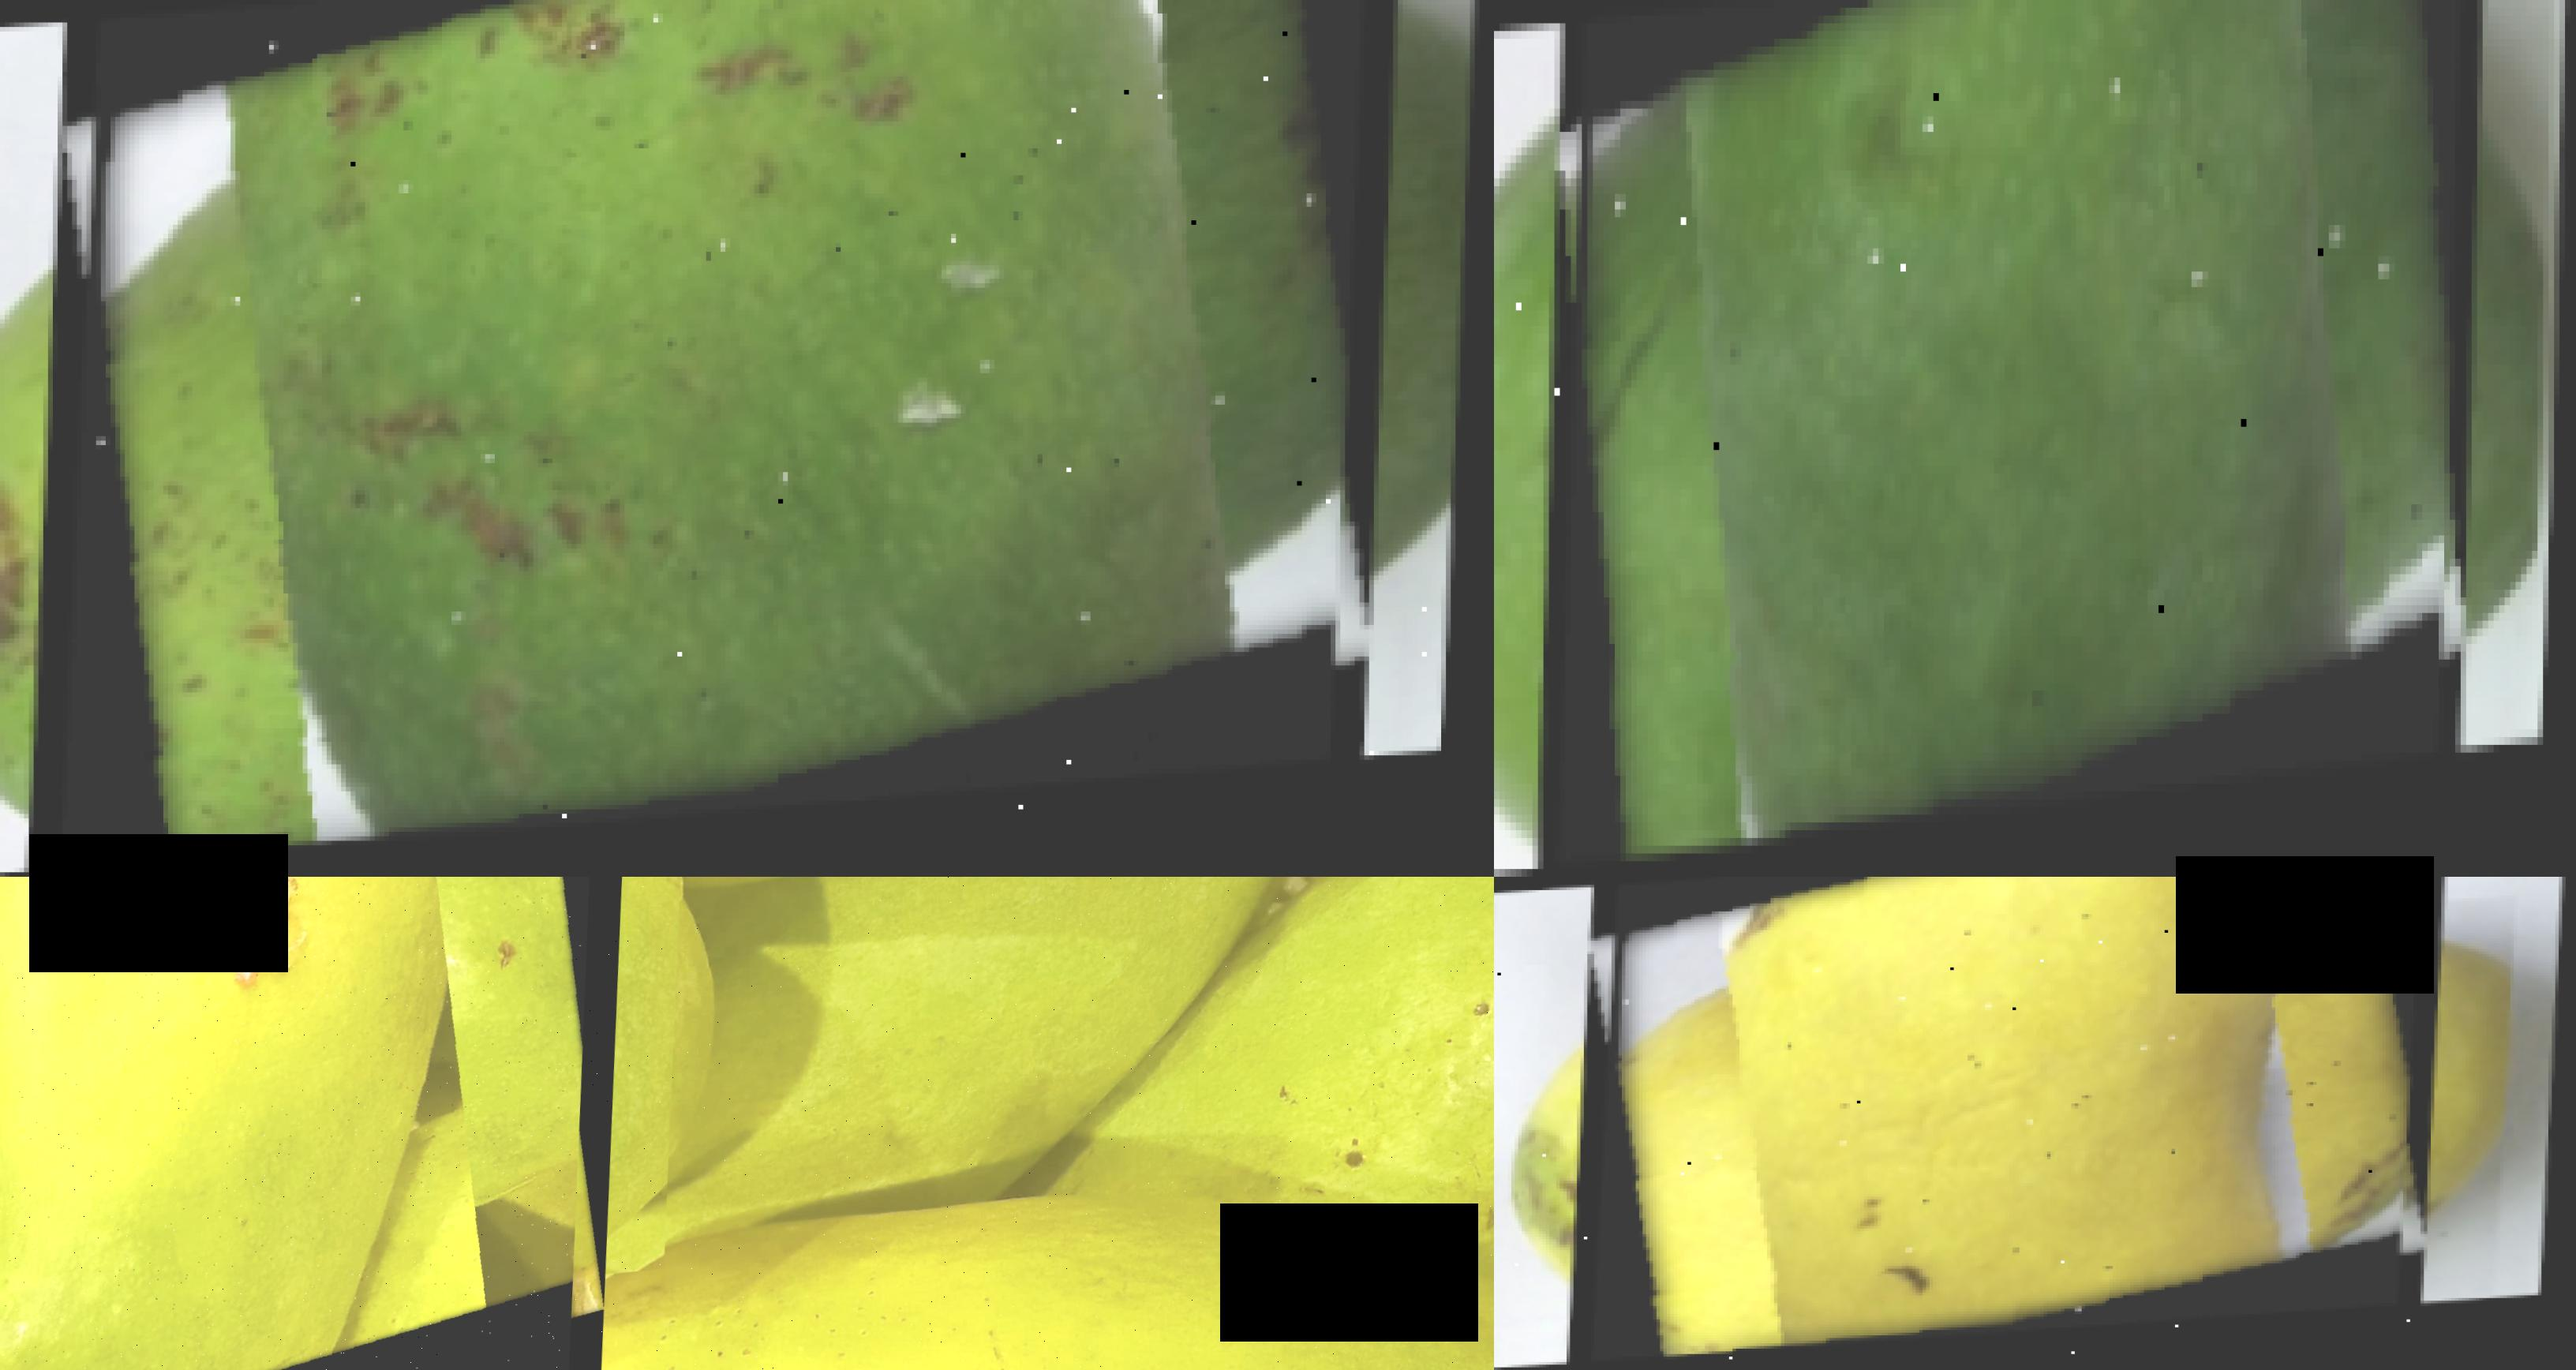Ripe: (1579, 878, 2435, 1361), (0, 878, 617, 1370)
Unripe: (46, 0, 1383, 869), (1547, 0, 2474, 867)
